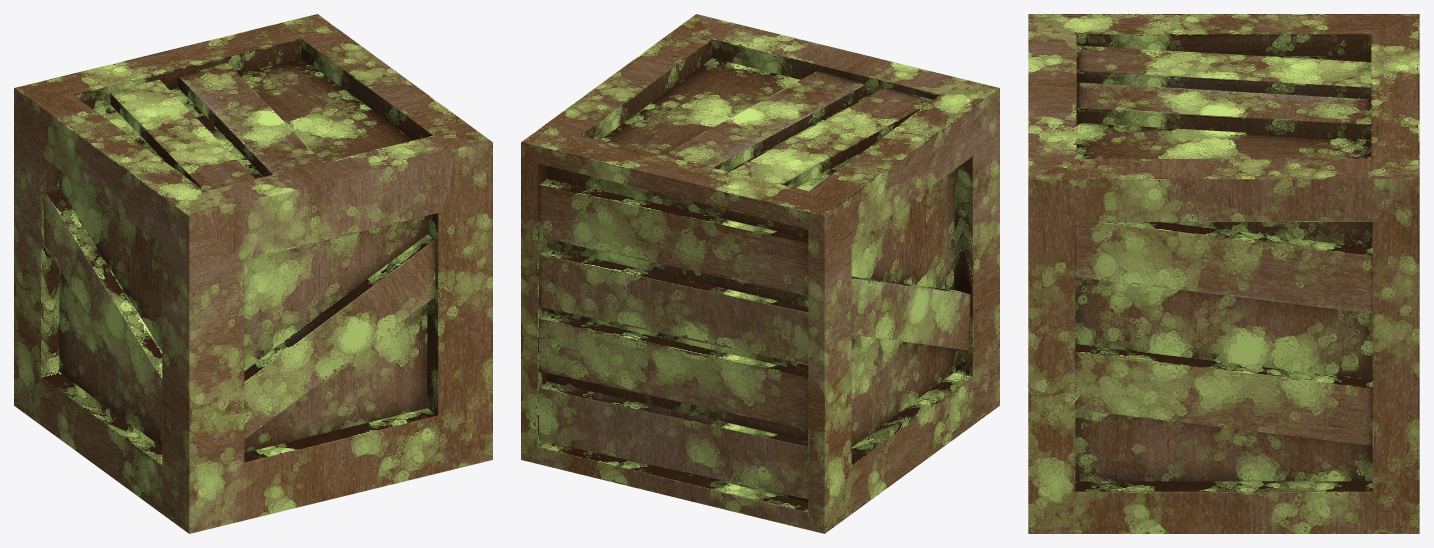
The model's file is box1yellow.glb.
3 renders of one model, left to right at view 1: azimuth 30°, elevation 25°; view 2: azimuth 150°, elevation 25°; view 3: azimuth 270°, elevation 25°, orthographic. The views are drawn at different scales.
Parts seen in each view (by area): view 1: Cube, Cube.001, Cube.002, Cube.003, Cube.004; view 2: Cube, Cube.009, Cube.012, Cube.010, Cube.011, Cube.003, Cube.004, Cube.002; view 3: Cube, Cube.007, Cube.006, Cube.003, Cube.004.
Part boxes in pixels (x1,y1,x2,y2): Cube: (14, 14, 492, 533); Cube.001: (244, 234, 435, 439); Cube.002: (43, 186, 162, 433); Cube.003: (178, 63, 322, 176); Cube.004: (110, 79, 254, 191); Cube: (521, 14, 999, 533); Cube.009: (539, 312, 808, 429); Cube.012: (539, 381, 808, 498); Cube.010: (539, 248, 808, 365); Cube.011: (539, 178, 808, 295); Cube.003: (662, 70, 867, 171); Cube.004: (730, 87, 932, 187); Cube.002: (851, 276, 970, 350); Cube: (1028, 14, 1419, 533); Cube.007: (1075, 344, 1372, 445); Cube.006: (1075, 222, 1372, 313); Cube.003: (1076, 82, 1371, 139); Cube.004: (1076, 45, 1371, 99).
Size of the model in its own units: 2 by 2 by 2.
1 material, 1 textured.
